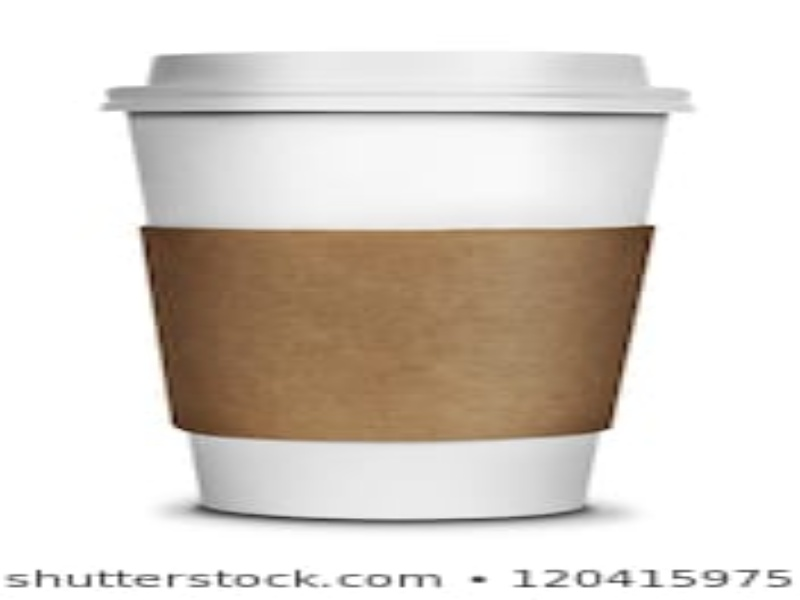coffee-lid: (97, 46, 700, 124)
plastic-cup: (93, 44, 684, 527)
